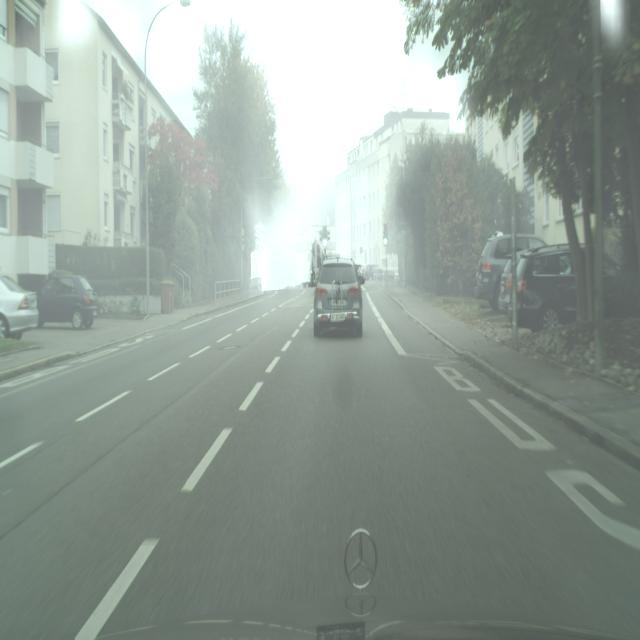person: (501, 245, 638, 332), (501, 246, 578, 332), (474, 232, 547, 310), (313, 257, 363, 338), (37, 271, 98, 329), (0, 274, 39, 339)
